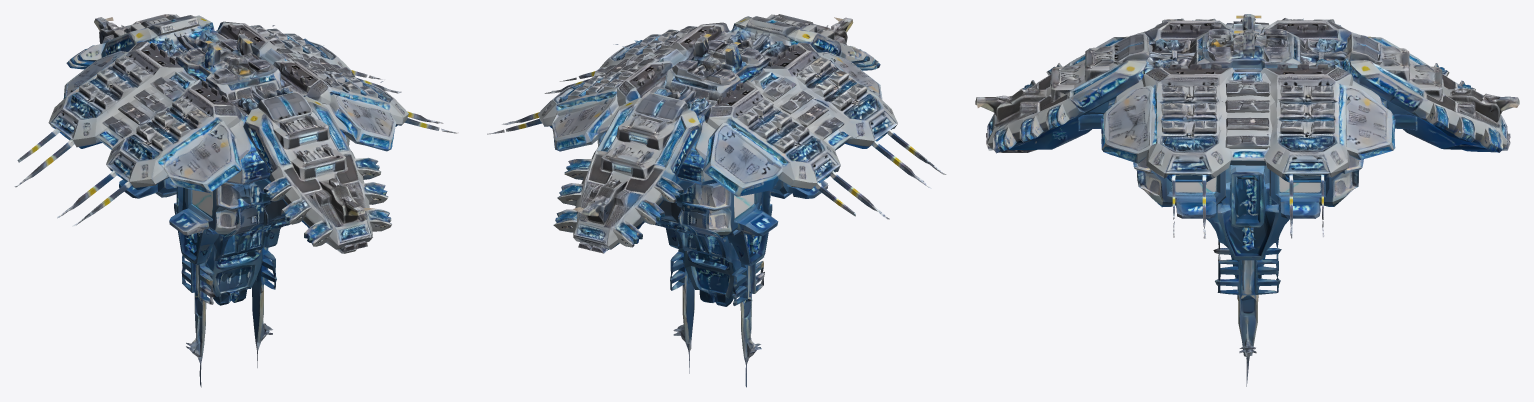
Rendered from lod_basic_pbr.fbx.
3 renders of one model, left to right at view 1: azimuth 30°, elevation 25°; view 2: azimuth 150°, elevation 25°; view 3: azimuth 270°, elevation 25°, orthographic. The views are drawn at different scales.
Parts seen in each view (by area): view 1: model_LOD0; view 2: model_LOD0; view 3: model_LOD0.
Part boxes in pixels (<box>): model_LOD0: <box>14,14,458,387</box>; model_LOD0: <box>487,14,946,387</box>; model_LOD0: <box>975,14,1519,386</box>.
Size of what is drawn, in the model's own units: 161 by 135 by 190.
1 material, 1 textured.
